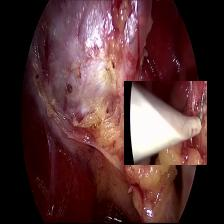Hook: (124, 81, 207, 165)
